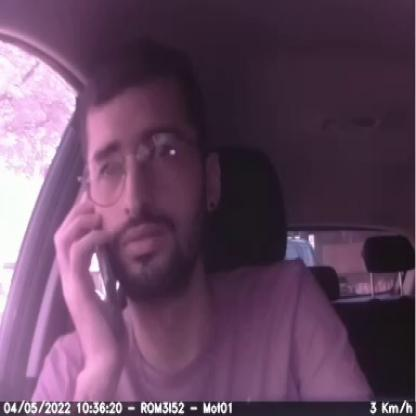phone: (75, 193, 134, 344)
